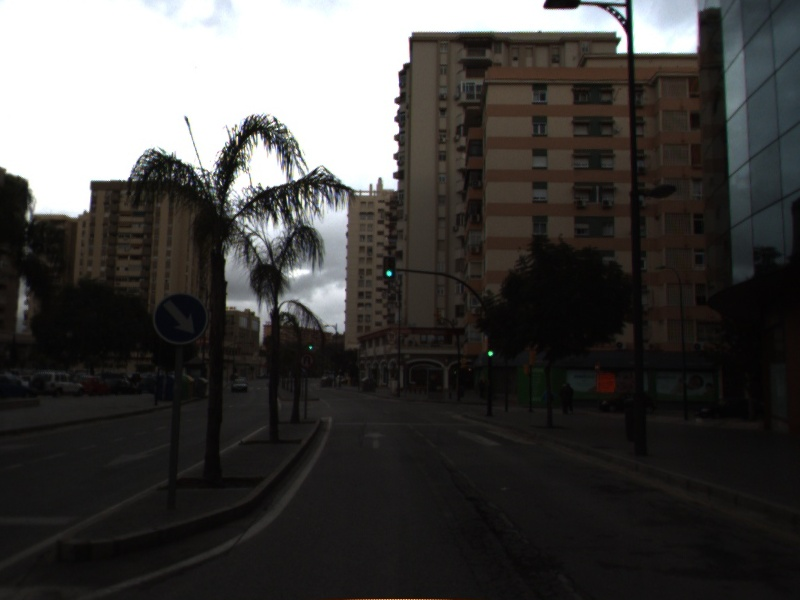STRAIGHT: (361, 428, 391, 451)
